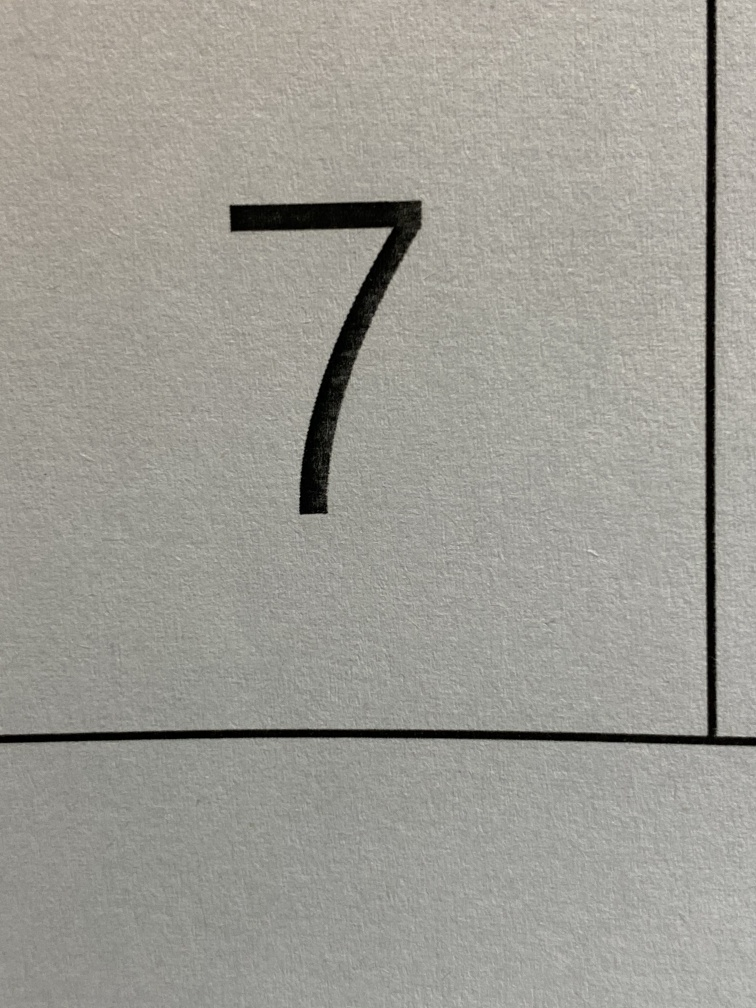seven: (164, 144, 488, 562)
